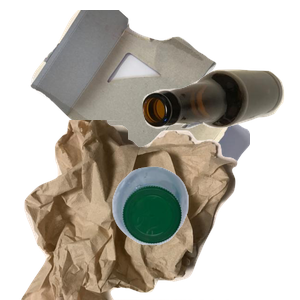glass: (140, 67, 300, 188)
paper: (28, 10, 268, 190)
plastic: (110, 164, 300, 300)
trash: (19, 120, 249, 300)
